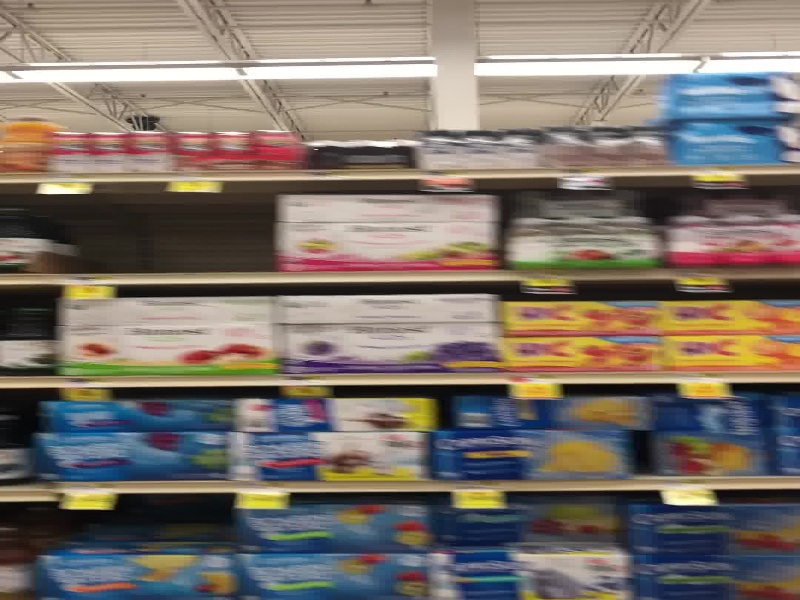empty_shelf_space: (48, 182, 275, 274)
